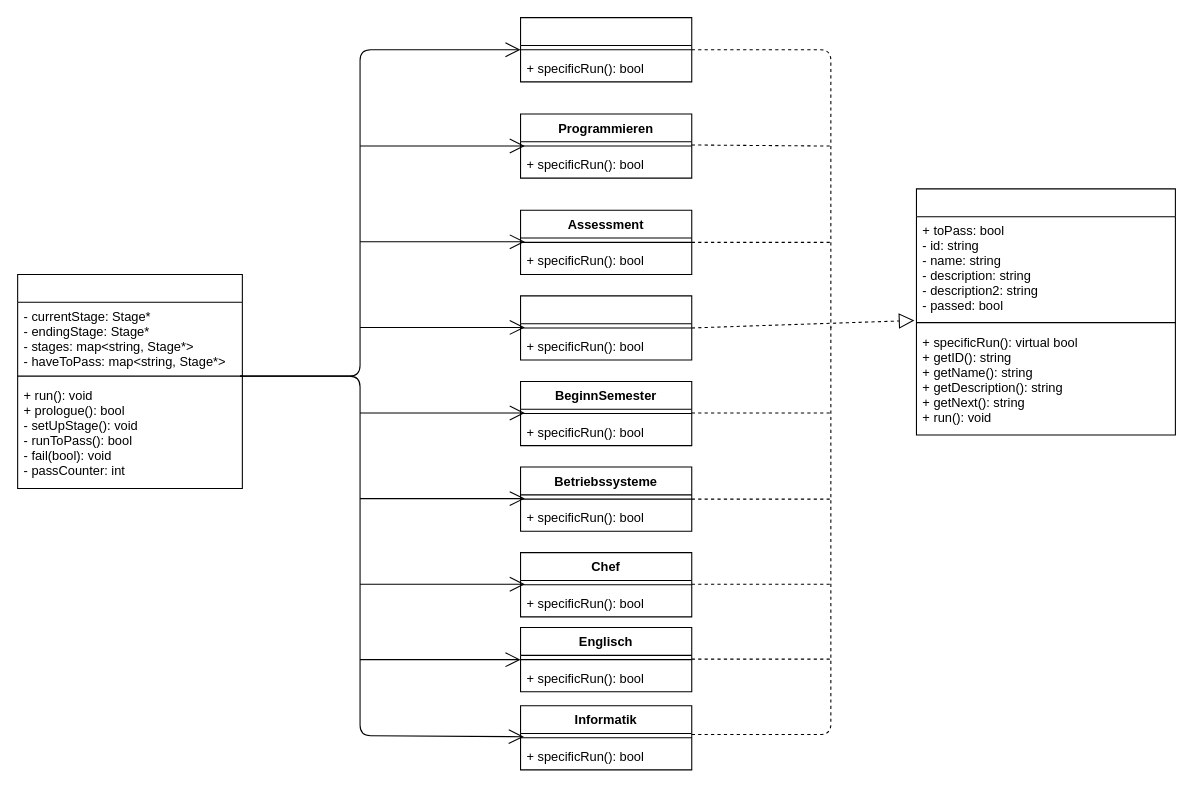
Image size: 1193x788. Some labels were removed from this diagram. Each missing label, with the box of its shape:
Auswertung: (519, 295, 692, 360)
Game: (17, 273, 242, 488)
Mathe: (519, 17, 692, 82)
Stage: (915, 188, 1175, 435)
